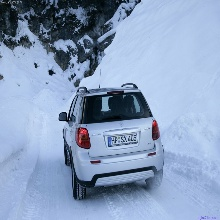no damage: (58, 83, 165, 200)
